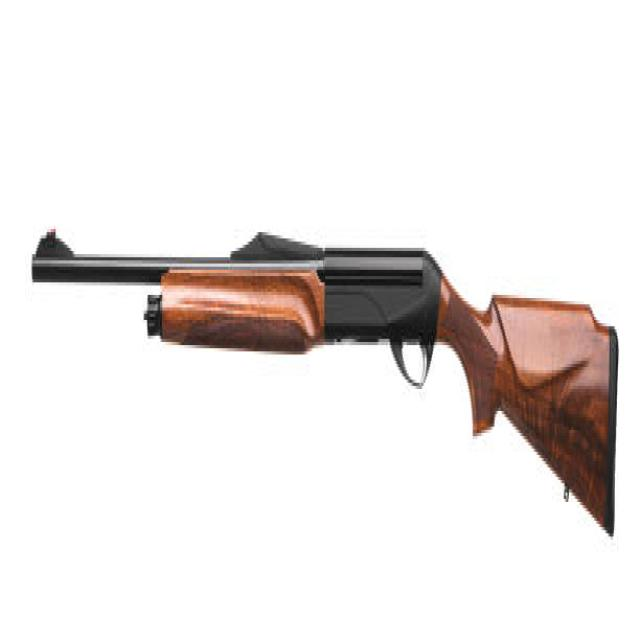rifle: (30, 212, 626, 543)
